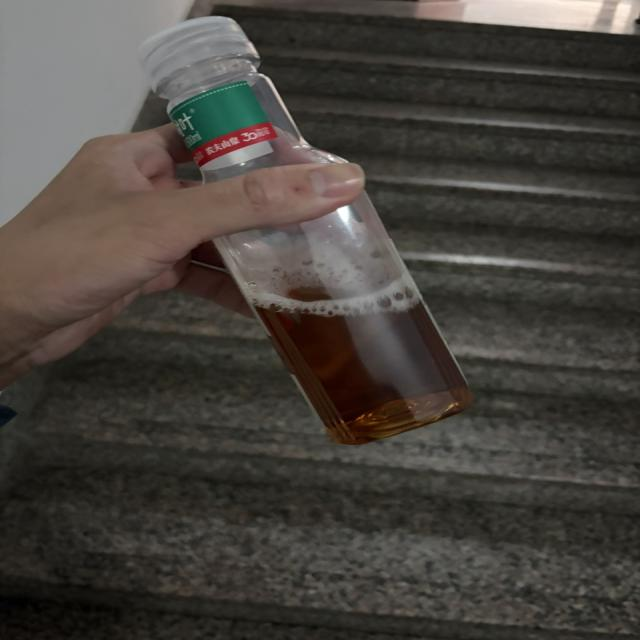medium: (215, 193, 471, 444), (141, 17, 345, 186)
